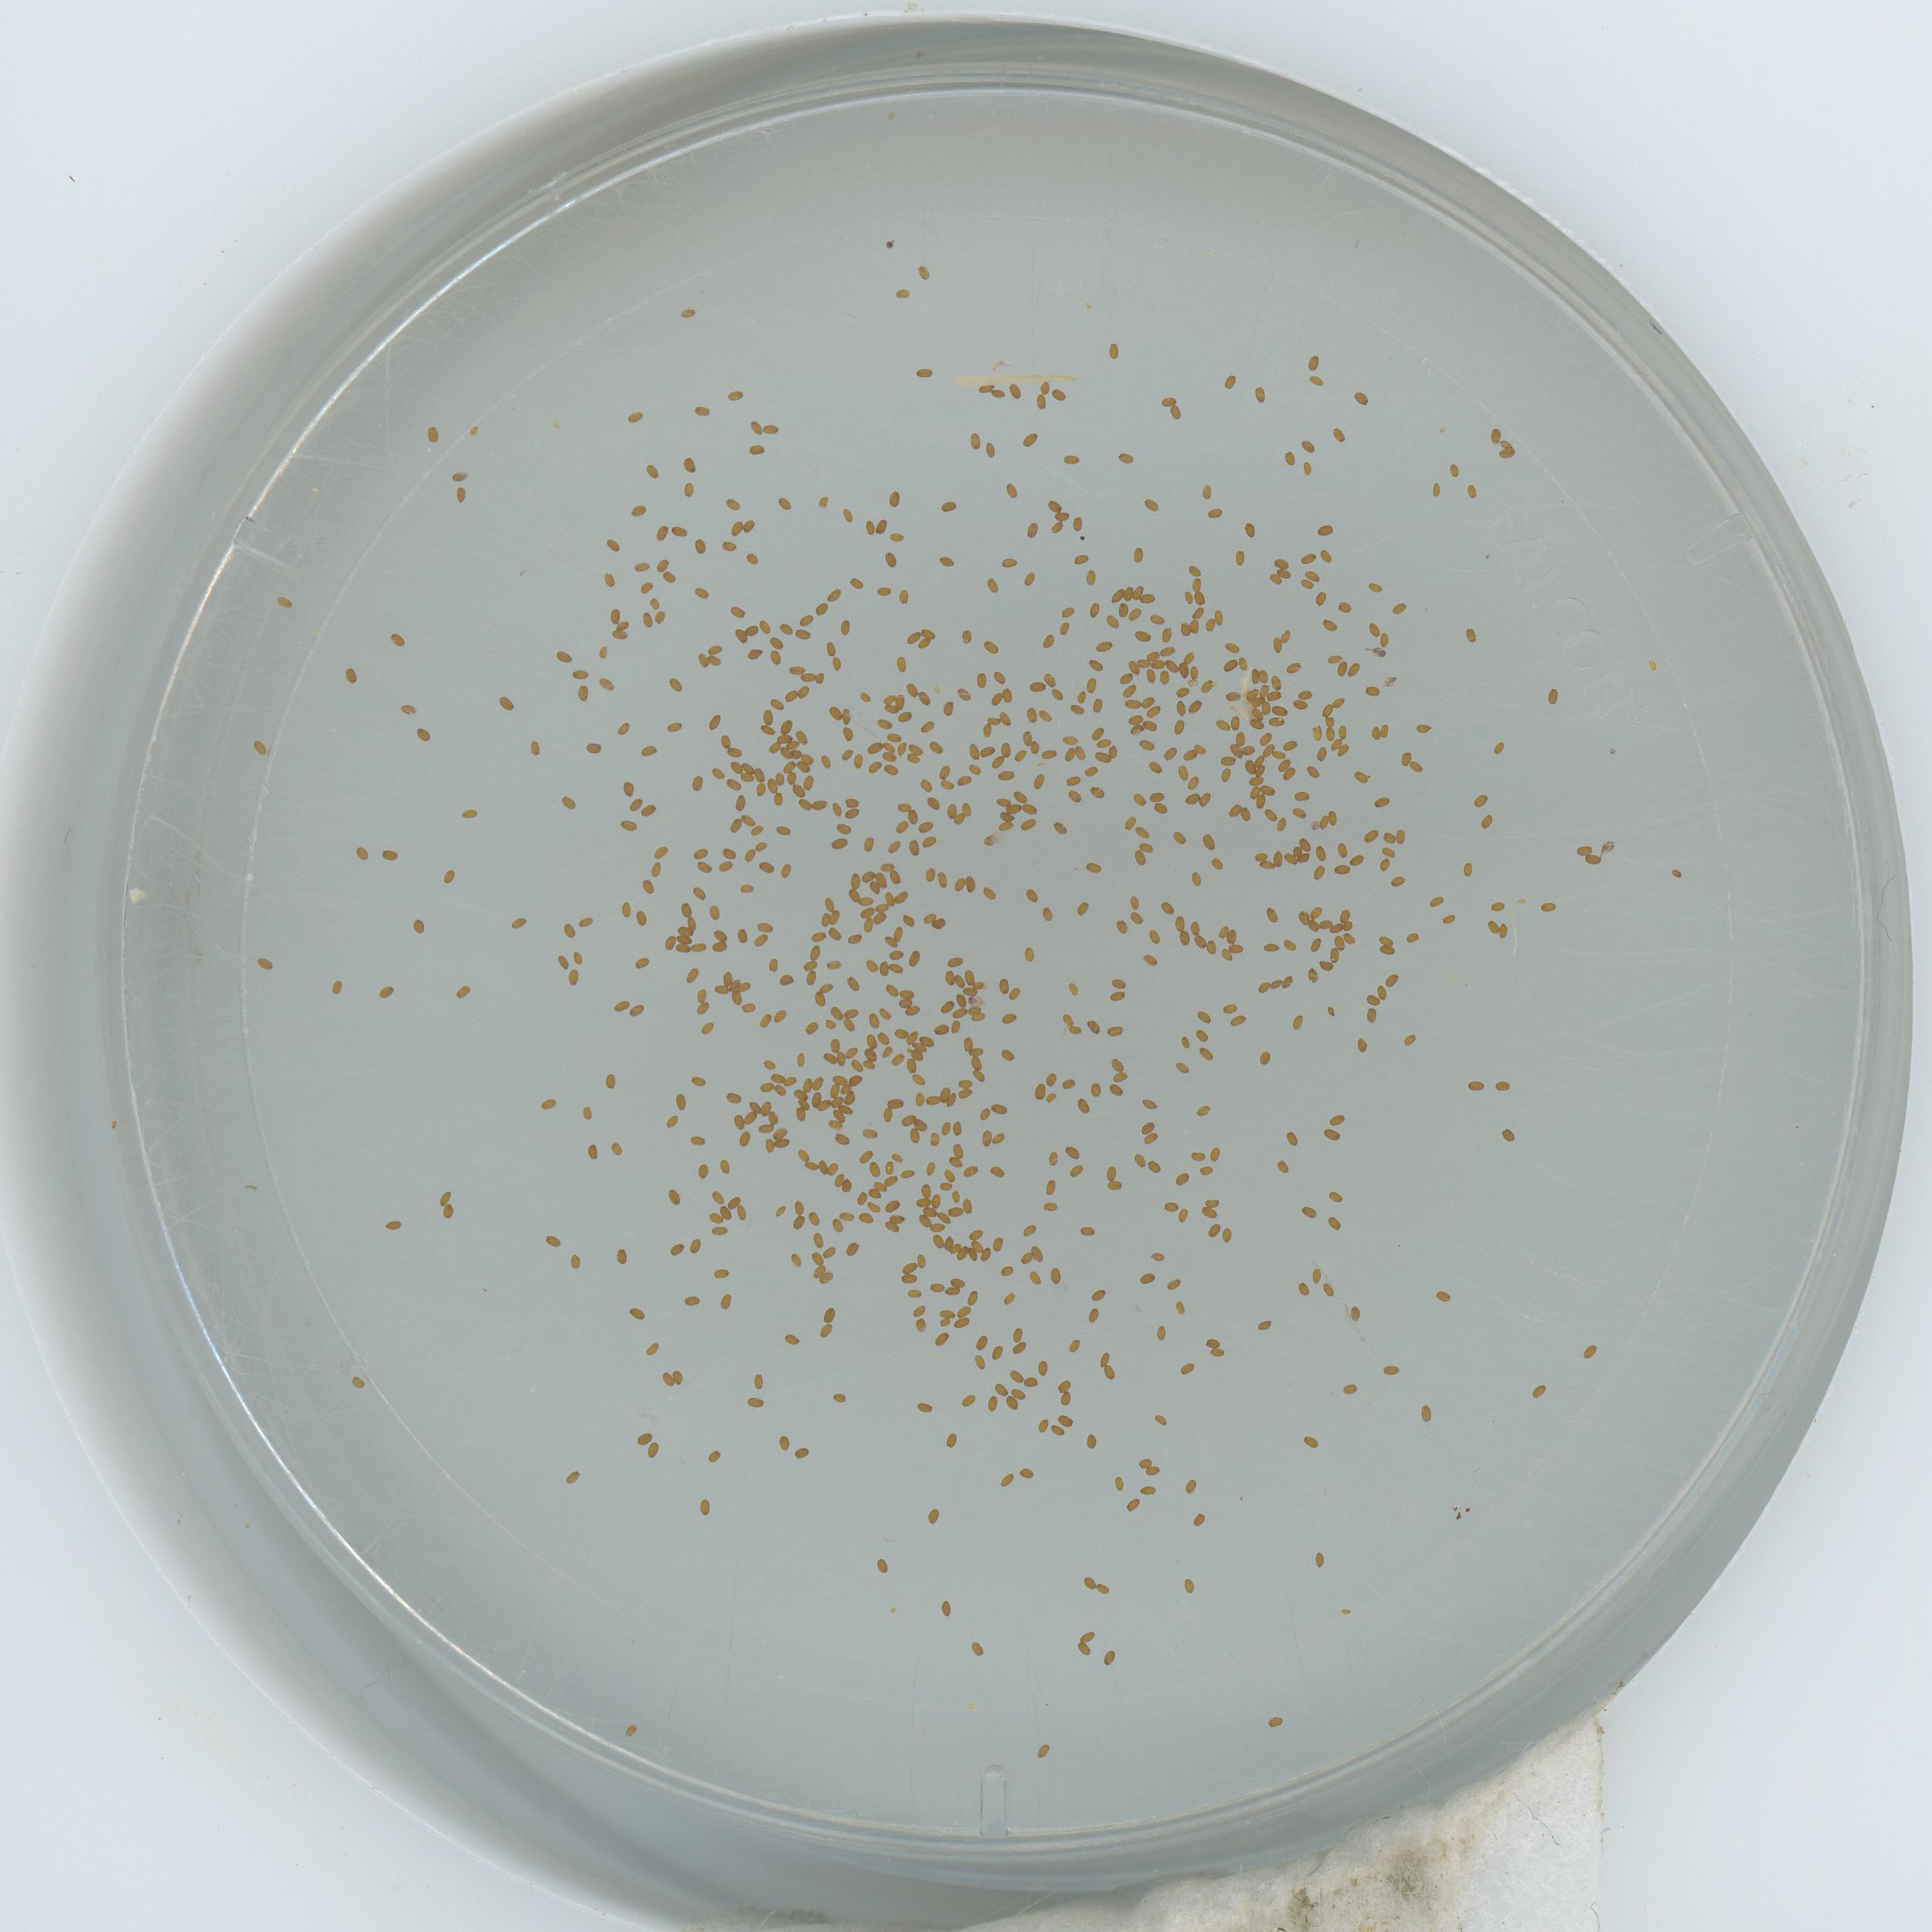seed: (954, 685, 975, 704), (934, 763, 954, 782), (672, 1090, 692, 1109), (695, 1497, 715, 1516), (253, 955, 274, 973), (745, 1394, 766, 1412), (706, 904, 725, 922), (731, 794, 750, 812), (1028, 773, 1047, 791), (1001, 479, 1021, 497), (1198, 833, 1217, 851), (1279, 934, 1299, 952), (1315, 520, 1334, 538), (1168, 718, 1187, 736), (1132, 626, 1152, 644), (1062, 1141, 1079, 1161), (1104, 1017, 1122, 1037), (862, 955, 879, 975), (276, 594, 295, 612), (653, 522, 671, 540), (497, 694, 515, 711), (725, 817, 743, 835), (692, 844, 709, 862), (671, 522, 688, 540), (759, 860, 777, 878), (667, 676, 685, 694), (883, 552, 901, 570), (878, 713, 895, 731), (934, 872, 952, 890), (711, 938, 729, 955), (844, 1238, 862, 1256), (628, 1302, 646, 1320), (718, 1292, 736, 1309), (602, 1070, 619, 1088), (1023, 520, 1040, 538), (1230, 548, 1247, 566), (1263, 908, 1281, 925), (1161, 745, 1178, 763), (1281, 736, 1299, 754), (1093, 637, 1111, 655), (1021, 430, 1039, 448), (1352, 389, 1369, 407), (1072, 899, 1090, 916), (1472, 791, 1490, 809), (1155, 626, 1173, 644), (1240, 520, 1258, 538), (1141, 495, 1159, 513), (1129, 547, 1146, 564), (1063, 771, 1081, 789), (1192, 1024, 1210, 1042), (1028, 1081, 1046, 1099), (1302, 1431, 1320, 1449), (1000, 1008, 1017, 1026), (998, 1044, 1016, 1062), (1417, 1403, 1435, 1421), (1468, 1074, 1486, 1092), (1106, 1051, 1123, 1069), (1056, 1410, 1074, 1428), (1072, 1095, 1090, 1113), (1307, 1265, 1325, 1283), (830, 837, 849, 853), (694, 586, 713, 602), (683, 455, 699, 474), (955, 771, 975, 787), (729, 989, 745, 1008), (819, 1049, 839, 1065), (885, 1196, 904, 1212), (846, 975, 862, 994), (665, 1187, 685, 1203), (793, 1444, 812, 1460), (777, 1433, 796, 1449), (745, 1097, 764, 1113), (1143, 929, 1162, 945), (971, 672, 991, 688), (1196, 679, 1215, 695), (1044, 1267, 1063, 1283), (1008, 1339, 1028, 1355), (957, 1392, 977, 1408), (690, 885, 708, 901), (725, 777, 743, 793), (653, 844, 671, 860), (918, 718, 936, 734), (655, 556, 672, 571), (694, 402, 711, 418), (660, 934, 678, 950), (757, 918, 775, 934), (895, 798, 913, 814), (747, 419, 764, 435), (678, 901, 694, 918), (639, 612, 656, 628), (692, 538, 709, 554), (570, 667, 587, 683), (633, 557, 651, 573), (380, 847, 398, 863), (561, 922, 579, 938), (810, 927, 828, 943), (770, 695, 787, 711), (510, 913, 527, 929), (570, 948, 587, 964), (586, 740, 603, 755), (706, 715, 724, 731), (812, 796, 830, 812), (414, 725, 432, 741), (908, 948, 925, 964), (621, 817, 637, 835), (918, 777, 936, 793), (409, 918, 426, 934), (720, 538, 738, 554), (575, 685, 591, 702), (895, 587, 911, 605), (598, 676, 616, 692), (826, 586, 844, 602), (640, 879, 658, 895), (844, 793, 862, 809), (619, 780, 637, 796), (633, 909, 651, 925), (639, 579, 656, 594), (644, 464, 662, 479), (920, 833, 938, 849), (727, 386, 745, 402), (713, 925, 731, 941), (925, 796, 943, 812), (888, 490, 904, 508), (453, 467, 471, 483), (916, 363, 934, 379), (688, 775, 706, 791), (840, 708, 856, 725), (821, 897, 839, 913), (828, 925, 846, 941), (616, 720, 633, 736), (777, 495, 794, 511), (441, 869, 458, 885), (867, 740, 885, 755), (778, 718, 796, 734), (683, 915, 699, 932), (902, 1258, 920, 1274), (688, 1237, 706, 1253), (858, 1146, 876, 1162), (784, 1329, 801, 1345), (713, 1263, 731, 1279), (833, 1131, 851, 1146), (791, 1198, 809, 1214), (941, 1431, 959, 1447), (924, 1507, 941, 1523), (867, 1161, 885, 1177), (886, 1093, 904, 1109), (925, 1131, 943, 1146), (938, 1599, 954, 1617), (812, 1230, 828, 1247), (874, 1557, 892, 1573), (793, 1109, 810, 1125), (858, 1208, 876, 1224), (644, 1442, 662, 1458), (543, 1231, 561, 1247), (435, 1187, 453, 1203), (690, 1070, 708, 1086), (886, 980, 904, 996), (694, 987, 711, 1003), (725, 1088, 743, 1104), (791, 1214, 809, 1230), (685, 1292, 702, 1307), (717, 1157, 734, 1173), (439, 1203, 456, 1219), (695, 1162, 713, 1178), (948, 1139, 964, 1157), (817, 1322, 835, 1338), (612, 1247, 630, 1263), (821, 1306, 839, 1322), (584, 1141, 602, 1157), (752, 1373, 770, 1389), (789, 1253, 807, 1269), (901, 1109, 918, 1125), (929, 1233, 947, 1249), (1256, 731, 1274, 747), (1362, 683, 1380, 699), (1146, 610, 1164, 626), (1297, 685, 1315, 701), (1247, 718, 1265, 734), (1293, 789, 1311, 805), (1320, 616, 1338, 632), (1047, 688, 1065, 704), (1065, 789, 1083, 805), (1000, 688, 1017, 704), (1334, 842, 1352, 858), (1010, 787, 1028, 803), (1391, 600, 1408, 616), (1173, 683, 1191, 699), (1088, 786, 1106, 801), (1019, 817, 1037, 833), (982, 639, 998, 656), (1085, 862, 1102, 878), (1311, 591, 1329, 607), (1157, 899, 1175, 915), (1445, 462, 1463, 478), (1316, 547, 1334, 563), (1086, 656, 1104, 672), (1081, 763, 1099, 778), (1131, 851, 1146, 869), (1000, 554, 1017, 570), (1062, 451, 1079, 467), (1389, 872, 1407, 888), (1490, 899, 1507, 915), (1261, 938, 1279, 954), (1279, 449, 1297, 465), (1146, 787, 1164, 803), (1304, 354, 1322, 370), (1040, 671, 1058, 686), (966, 432, 982, 449), (1085, 602, 1102, 617), (1081, 570, 1099, 586), (1116, 448, 1134, 464), (1040, 747, 1058, 763), (1290, 807, 1307, 823), (1111, 918, 1129, 934), (1539, 897, 1557, 913), (1088, 697, 1106, 713), (1169, 701, 1187, 717), (1284, 660, 1302, 676), (1102, 616, 1120, 632), (1053, 621, 1070, 637), (996, 741, 1012, 759), (1223, 688, 1240, 704), (1159, 391, 1177, 407), (1249, 386, 1267, 402), (1196, 483, 1214, 499), (1104, 341, 1122, 357), (1106, 587, 1122, 605), (1545, 688, 1562, 704), (1021, 708, 1039, 724), (1330, 426, 1348, 442), (1477, 814, 1495, 830), (1058, 603, 1074, 621), (1173, 764, 1191, 780), (1051, 821, 1069, 837), (1168, 915, 1185, 931), (1219, 373, 1237, 389), (1060, 731, 1077, 747), (1219, 658, 1237, 674), (1299, 548, 1316, 564), (1192, 587, 1208, 605), (1173, 929, 1191, 945), (1007, 380, 1023, 398), (1270, 702, 1288, 718), (973, 1334, 991, 1350), (1493, 1076, 1511, 1092), (1040, 1177, 1058, 1192), (1161, 1196, 1178, 1212), (1530, 1382, 1548, 1398), (1196, 1044, 1214, 1060), (1085, 1081, 1102, 1097), (1134, 1453, 1152, 1468), (1288, 1012, 1306, 1028), (1175, 1033, 1192, 1049), (1109, 1476, 1127, 1491), (1173, 1169, 1191, 1185), (1024, 1269, 1042, 1284), (1088, 1284, 1106, 1300), (987, 1345, 1005, 1361), (1033, 1359, 1049, 1376), (1401, 1030, 1419, 1046), (1173, 1058, 1191, 1074), (1139, 1093, 1157, 1109), (1016, 1465, 1033, 1481), (1033, 1743, 1051, 1759), (1086, 1019, 1104, 1035), (1362, 991, 1380, 1007), (1148, 1247, 1166, 1263), (991, 1097, 1007, 1115), (1123, 1495, 1141, 1511), (985, 1394, 1001, 1412), (1320, 1281, 1336, 1299), (1201, 1191, 1219, 1207), (1254, 1316, 1272, 1332), (1382, 1361, 1399, 1376), (1283, 1129, 1300, 1145), (1028, 1244, 1046, 1260), (1322, 1125, 1339, 1141), (1056, 1391, 1074, 1407), (1083, 1433, 1100, 1449), (1329, 1109, 1346, 1125), (1178, 1578, 1196, 1594), (1164, 1276, 1182, 1292), (1001, 1396, 1019, 1412), (469, 421, 487, 437), (632, 957, 651, 971), (883, 1159, 902, 1173), (1120, 685, 1139, 699), (1583, 853, 1603, 867), (957, 1088, 978, 1100), (1497, 448, 1518, 460), (617, 902, 633, 918), (731, 603, 747, 619), (556, 648, 571, 663), (890, 529, 906, 545), (862, 837, 878, 853), (878, 582, 893, 598), (876, 518, 892, 534), (904, 628, 920, 644), (649, 862, 665, 878), (824, 640, 840, 656), (893, 658, 909, 674), (862, 869, 878, 885), (640, 745, 656, 761), (796, 729, 812, 745), (941, 497, 957, 513), (853, 754, 869, 770), (895, 821, 911, 837), (354, 846, 370, 862), (770, 651, 786, 667), (918, 819, 934, 835), (605, 607, 621, 623), (602, 571, 617, 587), (400, 702, 416, 718), (915, 264, 931, 280), (796, 628, 812, 644), (895, 283, 911, 299), (745, 623, 761, 639), (708, 640, 724, 656), (732, 630, 748, 646), (729, 520, 745, 536), (628, 407, 644, 423), (842, 725, 858, 741), (939, 701, 955, 717), (814, 600, 830, 616), (920, 869, 936, 885), (778, 621, 794, 637), (895, 890, 911, 906), (890, 869, 906, 885), (931, 915, 947, 931), (771, 793, 787, 809), (847, 931, 863, 947), (939, 554, 955, 570), (425, 426, 441, 442), (839, 619, 855, 635), (743, 518, 759, 534), (761, 709, 777, 725), (343, 667, 359, 683), (628, 796, 644, 812), (869, 761, 885, 777), (745, 550, 761, 566), (605, 538, 621, 554), (642, 803, 658, 819), (725, 494, 741, 510), (646, 594, 662, 610), (736, 927, 752, 943), (775, 823, 791, 839), (681, 481, 697, 497), (462, 807, 478, 823), (803, 775, 819, 791), (837, 821, 853, 837), (389, 632, 405, 648), (722, 846, 738, 862), (755, 839, 771, 855), (807, 943, 823, 959), (694, 653, 709, 669), (453, 487, 469, 502), (766, 777, 782, 793), (826, 704, 842, 720), (847, 872, 863, 888), (251, 740, 267, 755), (817, 494, 833, 510), (883, 892, 899, 908), (920, 909, 936, 925), (867, 879, 883, 895), (594, 646, 610, 662), (878, 1028, 893, 1044), (637, 1428, 653, 1444), (805, 1017, 821, 1033), (690, 1131, 706, 1146), (455, 982, 471, 998), (934, 1330, 950, 1346), (706, 1447, 722, 1463), (564, 1468, 580, 1484), (566, 1253, 582, 1269), (908, 1127, 924, 1143), (566, 970, 582, 985), (379, 984, 395, 1000), (699, 1019, 715, 1035), (646, 1339, 662, 1355), (685, 968, 701, 984), (669, 1238, 685, 1254), (630, 1001, 646, 1017), (386, 1215, 402, 1231), (763, 1053, 778, 1069), (740, 1129, 755, 1145), (828, 1035, 844, 1051), (609, 1139, 625, 1155), (915, 1251, 931, 1267), (879, 1106, 895, 1122), (579, 1104, 594, 1120), (807, 1208, 823, 1224), (950, 1120, 966, 1136), (540, 1093, 556, 1109), (832, 1389, 847, 1405), (796, 1145, 812, 1161), (773, 1203, 789, 1219), (658, 1369, 674, 1385), (731, 1111, 747, 1127), (350, 1373, 366, 1389), (828, 1003, 844, 1019), (920, 1031, 936, 1047), (759, 1118, 775, 1134), (947, 1155, 962, 1171), (1223, 640, 1238, 656), (1072, 550, 1088, 566), (1207, 504, 1223, 520), (984, 579, 1000, 594), (1463, 626, 1479, 642), (1120, 816, 1136, 832), (1134, 824, 1150, 840), (1028, 679, 1044, 695), (1187, 699, 1203, 715), (1352, 770, 1368, 786), (1049, 386, 1065, 402), (1396, 750, 1412, 766), (1428, 893, 1444, 909), (1405, 929, 1421, 945), (1428, 481, 1444, 497), (1313, 747, 1329, 763), (1171, 830, 1187, 846), (1125, 895, 1141, 911), (1304, 764, 1320, 780), (1037, 904, 1053, 920), (1336, 724, 1352, 740), (1463, 483, 1479, 499), (1023, 890, 1039, 906), (1300, 437, 1316, 453), (1037, 708, 1053, 724), (1491, 741, 1507, 757), (1269, 639, 1284, 655), (1325, 648, 1341, 663), (1307, 904, 1323, 920), (1131, 793, 1146, 809), (1366, 621, 1382, 637), (1488, 426, 1504, 442), (1159, 642, 1175, 658), (1187, 872, 1203, 888), (980, 885, 996, 901), (1185, 775, 1201, 791), (1362, 828, 1378, 844), (1069, 515, 1085, 531), (1332, 662, 1348, 678), (1017, 731, 1033, 747), (1313, 846, 1329, 862), (1460, 862, 1476, 878), (1299, 460, 1315, 476), (1031, 393, 1047, 409), (982, 441, 998, 456), (1224, 803, 1240, 819), (1200, 617, 1215, 633), (980, 833, 996, 849), (1113, 602, 1129, 617), (1306, 936, 1322, 952), (1069, 702, 1085, 718), (1021, 945, 1037, 961), (1155, 671, 1171, 686), (1599, 839, 1615, 855), (1189, 617, 1205, 633), (1221, 998, 1237, 1014), (1079, 1626, 1095, 1642), (1362, 1007, 1378, 1023), (1042, 1070, 1058, 1086), (1196, 1008, 1212, 1024), (1191, 1511, 1207, 1527), (970, 1640, 985, 1656), (1325, 1214, 1341, 1230), (1207, 1145, 1223, 1161), (1254, 1047, 1270, 1063), (1582, 1343, 1598, 1359), (1100, 1649, 1116, 1665), (1031, 1417, 1047, 1433), (1040, 1198, 1056, 1214), (1267, 1713, 1283, 1729), (1194, 1100, 1210, 1116), (1001, 1290, 1017, 1306), (1100, 1364, 1116, 1380), (1131, 1152, 1146, 1168), (1309, 1552, 1325, 1568), (1300, 1201, 1316, 1217), (993, 1380, 1008, 1396), (998, 1472, 1014, 1488), (1146, 1157, 1162, 1173), (989, 1162, 1005, 1178), (1274, 1157, 1290, 1173), (1044, 1150, 1060, 1166), (1008, 1368, 1024, 1384), (1077, 1221, 1093, 1237), (1353, 1035, 1369, 1051), (1021, 1221, 1037, 1237), (1341, 1378, 1357, 1394), (1085, 1307, 1100, 1323), (1067, 1162, 1083, 1178), (998, 1261, 1014, 1277), (1109, 975, 1125, 991), (1047, 1422, 1063, 1438), (1384, 971, 1399, 987), (1205, 1223, 1221, 1238), (968, 1224, 984, 1240), (1175, 1207, 1191, 1223), (1023, 1371, 1039, 1387), (1108, 989, 1123, 1005), (991, 1129, 1007, 1145), (1435, 1288, 1451, 1304), (1500, 1125, 1516, 1141), (1219, 1226, 1235, 1242), (978, 1131, 994, 1146), (727, 977, 743, 993), (623, 1723, 639, 1739), (108, 1116, 124, 1132), (787, 660, 805, 674), (748, 442, 766, 456), (886, 840, 904, 855), (939, 780, 957, 794), (901, 913, 918, 927), (778, 865, 796, 879), (849, 575, 867, 589), (747, 648, 764, 662), (577, 913, 594, 927), (915, 692, 932, 706), (695, 863, 713, 878), (927, 741, 945, 755), (763, 421, 780, 435), (858, 690, 876, 704), (692, 938, 709, 952), (789, 784, 807, 798), (888, 947, 906, 961), (901, 1270, 918, 1284), (862, 1125, 879, 1139), (778, 971, 796, 985), (709, 1187, 727, 1201), (819, 978, 837, 993), (911, 1302, 929, 1316), (663, 1115, 681, 1129), (695, 1001, 713, 1016), (913, 1318, 931, 1332), (906, 1286, 924, 1300), (773, 1083, 791, 1097), (826, 1120, 844, 1134), (770, 1069, 787, 1083), (816, 1099, 833, 1113), (957, 1076, 975, 1090), (1138, 738, 1155, 752), (1207, 858, 1224, 872), (1332, 863, 1350, 878), (1380, 846, 1398, 860), (1330, 695, 1348, 709), (1270, 556, 1288, 570), (1141, 950, 1159, 964), (1306, 372, 1323, 386), (1309, 867, 1327, 881), (1336, 908, 1353, 922), (991, 671, 1008, 685), (1166, 405, 1184, 419), (1136, 840, 1154, 855), (1376, 932, 1394, 947), (1378, 943, 1396, 957), (1189, 605, 1207, 619), (1092, 750, 1109, 764), (1127, 607, 1145, 621), (1116, 672, 1134, 686), (1070, 690, 1088, 704), (957, 630, 975, 644), (1269, 674, 1283, 692), (1145, 704, 1162, 718), (1139, 1484, 1157, 1499), (1143, 1465, 1161, 1479), (1093, 1352, 1111, 1366), (1141, 1131, 1159, 1145), (1200, 1205, 1217, 1219), (1058, 1074, 1076, 1088), (1007, 1325, 1024, 1339), (1074, 1644, 1092, 1658), (1100, 1166, 1118, 1180), (1196, 1162, 1214, 1177), (1327, 1189, 1345, 1203), (1346, 1306, 1364, 1320), (1150, 1412, 1168, 1426), (1104, 1178, 1122, 1192), (1016, 1251, 1033, 1265), (826, 957, 844, 971), (1109, 1070, 1132, 1081), (610, 630, 630, 642), (945, 955, 964, 968), (952, 1316, 971, 1329), (961, 1035, 973, 1054), (1123, 584, 1136, 603), (770, 637, 786, 651), (888, 729, 902, 745), (800, 612, 816, 626), (727, 745, 743, 759), (709, 766, 725, 780), (718, 862, 734, 876), (904, 683, 920, 697), (527, 741, 543, 755), (830, 658, 846, 672), (740, 881, 755, 895), (920, 625, 936, 639), (784, 688, 798, 704), (662, 571, 678, 586), (899, 711, 915, 725), (561, 796, 577, 810), (632, 502, 648, 517), (817, 911, 833, 925), (717, 732, 732, 747), (743, 849, 759, 863), (800, 685, 816, 699), (885, 764, 901, 778), (952, 878, 966, 893), (840, 508, 856, 522), (883, 750, 899, 764), (655, 610, 671, 625), (667, 720, 683, 734), (750, 824, 766, 839), (741, 814, 757, 828), (908, 810, 924, 824), (759, 725, 775, 740), (817, 755, 833, 770), (830, 909, 844, 925), (893, 927, 909, 941), (945, 803, 959, 819), (759, 619, 775, 633), (846, 807, 862, 821), (860, 892, 876, 906), (839, 747, 855, 761), (754, 784, 770, 798), (874, 874, 890, 888), (883, 690, 899, 704), (681, 304, 695, 320), (883, 934, 899, 948), (741, 759, 755, 775), (883, 702, 899, 717), (879, 858, 895, 872), (612, 996, 628, 1010), (824, 1016, 839, 1031), (842, 1017, 858, 1031), (867, 1014, 881, 1030), (853, 1189, 869, 1203), (902, 1166, 918, 1180), (713, 1223, 729, 1237), (761, 1136, 775, 1152), (929, 1279, 945, 1293), (846, 1003, 862, 1017), (743, 1000, 759, 1014), (713, 982, 729, 996), (775, 1007, 791, 1021), (924, 1162, 939, 1177), (916, 1399, 932, 1414), (672, 1368, 686, 1384), (948, 1187, 962, 1203), (893, 1026, 909, 1040), (932, 1021, 948, 1035), (757, 1012, 773, 1026), (939, 998, 955, 1012), (867, 1198, 883, 1212), (736, 1203, 750, 1219), (794, 1053, 810, 1067), (911, 1070, 927, 1085), (805, 970, 821, 984), (878, 1007, 893, 1021), (718, 971, 734, 985), (823, 1244, 839, 1258), (847, 1072, 863, 1086), (832, 1217, 847, 1231), (791, 1088, 807, 1102), (759, 1077, 775, 1092), (814, 991, 830, 1005), (775, 1136, 791, 1150), (839, 1205, 855, 1219), (948, 1203, 964, 1217), (920, 1182, 936, 1196), (863, 1046, 879, 1060), (943, 1164, 959, 1178), (890, 1051, 906, 1065), (925, 1093, 941, 1108), (939, 1306, 955, 1320), (832, 1070, 847, 1085), (801, 1076, 816, 1092), (832, 1169, 846, 1185), (941, 1233, 955, 1249), (939, 970, 955, 984), (819, 1270, 833, 1286), (840, 1177, 856, 1191), (980, 745, 996, 759), (1366, 580, 1382, 594), (1021, 803, 1037, 817), (1336, 600, 1352, 614), (1088, 725, 1104, 740), (1044, 497, 1060, 511), (1350, 855, 1366, 869), (1141, 669, 1157, 683), (1293, 701, 1309, 715), (1376, 860, 1392, 874), (998, 768, 1014, 782), (1127, 713, 1143, 727), (1021, 571, 1037, 586), (1198, 791, 1212, 807), (1346, 662, 1362, 676), (1035, 379, 1049, 395), (1083, 678, 1099, 692), (1394, 830, 1408, 846), (1231, 731, 1247, 745), (1217, 770, 1233, 784), (1060, 748, 1076, 763), (1178, 589, 1192, 605), (1012, 750, 1028, 764), (1408, 761, 1424, 775), (1318, 702, 1332, 718), (989, 386, 1005, 400), (1373, 796, 1389, 810), (1212, 718, 1228, 732), (1228, 941, 1244, 955), (1440, 911, 1456, 925), (1228, 715, 1242, 731), (1074, 747, 1088, 763), (1039, 633, 1054, 648), (1299, 837, 1315, 851), (1139, 695, 1155, 709), (1224, 929, 1240, 943), (1185, 561, 1201, 575), (1279, 628, 1293, 644), (1184, 791, 1198, 807), (1192, 741, 1208, 755), (1253, 847, 1269, 862), (1341, 920, 1357, 934), (1187, 577, 1203, 591), (1327, 812, 1341, 828), (1276, 817, 1292, 832), (1150, 803, 1166, 817), (1187, 920, 1201, 936), (1146, 761, 1162, 775), (1283, 768, 1299, 782), (1668, 865, 1684, 879), (998, 713, 1014, 727), (1304, 566, 1320, 580), (1260, 784, 1276, 798), (1576, 842, 1592, 856), (1139, 591, 1155, 605), (1240, 743, 1256, 757), (1238, 809, 1253, 824), (966, 743, 980, 759), (1415, 722, 1431, 736), (1129, 911, 1145, 925), (1192, 934, 1207, 950), (968, 763, 984, 777), (1368, 725, 1382, 741), (1380, 724, 1394, 740), (1212, 609, 1226, 625), (1187, 665, 1201, 681), (1177, 621, 1191, 637), (1226, 743, 1242, 757), (1267, 571, 1283, 586), (1267, 690, 1283, 704), (1028, 740, 1042, 755), (1215, 924, 1230, 939), (1123, 697, 1139, 711), (1270, 747, 1286, 761), (1122, 660, 1138, 674), (1247, 706, 1263, 720), (959, 801, 973, 817), (1187, 1146, 1203, 1161), (1171, 1300, 1187, 1315), (1007, 987, 1023, 1001), (1106, 1083, 1122, 1097), (971, 1355, 987, 1369), (991, 1235, 1007, 1249), (1065, 1338, 1081, 1352), (994, 978, 1010, 993), (1228, 1012, 1244, 1026), (1010, 1385, 1026, 1399), (1203, 1334, 1219, 1348), (1081, 1575, 1095, 1591), (1208, 1346, 1224, 1361), (975, 1106, 991, 1120), (1178, 1361, 1194, 1375), (1139, 1270, 1155, 1284), (1139, 1116, 1155, 1131), (1182, 1479, 1198, 1493), (1093, 1582, 1109, 1596), (1054, 1376, 1070, 1391), (1065, 1023, 1081, 1037), (1152, 1325, 1168, 1339), (1295, 1281, 1311, 1295), (1304, 968, 1320, 982), (1323, 1003, 1339, 1017), (962, 1162, 977, 1178), (1254, 980, 1270, 994), (968, 1054, 984, 1069), (970, 1040, 984, 1056), (971, 1012, 987, 1026), (1256, 683, 1270, 699), (952, 812, 968, 826), (777, 732, 793, 747), (557, 952, 570, 970), (798, 672, 816, 685), (755, 766, 768, 784), (801, 752, 819, 764), (856, 906, 874, 918), (796, 763, 814, 775), (892, 1150, 909, 1162), (885, 1173, 902, 1185), (720, 1205, 732, 1223), (899, 985, 916, 998), (885, 1221, 902, 1233), (869, 1185, 886, 1198), (888, 962, 906, 975), (906, 1003, 924, 1016), (957, 1304, 975, 1316), (1217, 755, 1235, 768), (1246, 775, 1263, 787), (962, 1198, 975, 1215), (1499, 435, 1516, 448), (939, 1085, 952, 1102), (879, 961, 890, 980), (906, 842, 920, 856), (847, 888, 862, 902), (729, 761, 743, 775), (909, 741, 924, 755), (862, 520, 876, 534), (893, 695, 908, 709), (816, 671, 830, 685), (782, 759, 796, 773), (931, 1194, 945, 1208), (727, 1194, 741, 1208), (810, 1249, 824, 1263), (939, 1178, 954, 1192), (906, 1058, 920, 1072), (331, 980, 345, 994), (847, 1042, 862, 1056), (881, 1044, 895, 1058), (775, 1123, 789, 1138), (938, 1120, 952, 1134), (759, 1100, 773, 1115), (865, 1035, 879, 1049), (906, 1030, 920, 1044), (745, 1111, 759, 1125), (1237, 656, 1251, 671), (1497, 924, 1511, 938), (1182, 649, 1196, 663), (980, 722, 994, 736), (1240, 761, 1254, 775), (1293, 909, 1307, 924), (1261, 809, 1276, 823), (1203, 941, 1217, 955), (1327, 948, 1341, 962), (987, 694, 1001, 708), (1283, 853, 1297, 867), (1177, 663, 1191, 678), (1106, 745, 1120, 759), (1306, 920, 1320, 934), (1378, 632, 1392, 646), (1323, 715, 1338, 729), (1309, 725, 1323, 740), (1162, 658, 1177, 672), (980, 1247, 994, 1261), (1060, 1012, 1074, 1026), (1281, 973, 1295, 987), (966, 1290, 980, 1304), (1063, 982, 1077, 996), (971, 1069, 985, 1083), (971, 977, 985, 991), (1251, 695, 1265, 709), (832, 1108, 846, 1122), (844, 1090, 858, 1104), (708, 655, 724, 667), (904, 754, 920, 766), (754, 934, 770, 947), (786, 771, 801, 784), (766, 741, 782, 754), (948, 1274, 964, 1286), (892, 1212, 908, 1224), (911, 1093, 927, 1106), (945, 1284, 961, 1297), (812, 1090, 824, 1106), (931, 1219, 947, 1231), (947, 1093, 959, 1109), (849, 1058, 865, 1070), (810, 1265, 826, 1277), (803, 1159, 819, 1171), (934, 1316, 950, 1329), (708, 1212, 724, 1224), (954, 971, 966, 987), (826, 1159, 842, 1171), (863, 1058, 879, 1070), (870, 1178, 886, 1191), (924, 1207, 939, 1219), (989, 757, 1005, 770), (1047, 522, 1063, 534), (1005, 803, 1021, 816), (1343, 934, 1359, 947), (1217, 950, 1233, 962), (1180, 750, 1196, 763), (977, 380, 993, 393), (1258, 860, 1274, 872), (1269, 717, 1284, 729), (1247, 669, 1260, 685), (1276, 759, 1292, 771), (1299, 579, 1315, 591), (998, 823, 1014, 835), (1095, 738, 1111, 750), (1129, 725, 1145, 738), (1376, 984, 1389, 1000), (1338, 1605, 1353, 1617), (1323, 727, 1336, 743), (1260, 667, 1272, 683), (839, 1083, 855, 1095), (786, 740, 801, 752), (674, 943, 690, 955), (909, 1049, 925, 1062), (678, 925, 695, 936), (936, 1212, 954, 1223), (957, 1246, 968, 1263), (962, 987, 980, 998), (798, 800, 812, 812), (895, 741, 908, 755), (874, 913, 888, 925), (862, 920, 876, 932), (832, 803, 844, 817), (916, 639, 931, 651), (617, 617, 632, 630), (773, 771, 786, 786), (878, 902, 892, 915), (740, 978, 754, 991), (913, 1118, 927, 1131), (916, 1196, 931, 1208), (948, 1021, 962, 1033), (897, 996, 911, 1008), (768, 1111, 782, 1123), (814, 1076, 826, 1090), (816, 1161, 830, 1173), (994, 796, 1008, 809), (1143, 720, 1157, 732), (1272, 853, 1284, 867), (1382, 830, 1394, 844), (1330, 936, 1343, 950), (1318, 918, 1332, 931), (1247, 787, 1260, 801), (1338, 745, 1352, 757), (1253, 796, 1265, 810), (985, 713, 1000, 725), (1044, 1090, 1058, 1102), (1269, 977, 1281, 991), (1244, 688, 1258, 701), (948, 1242, 961, 1256), (971, 1238, 984, 1253), (918, 1214, 931, 1228), (740, 773, 755, 784), (839, 1104, 855, 1115), (835, 1053, 846, 1069), (966, 878, 977, 893), (1277, 570, 1293, 580), (1054, 510, 1070, 520), (1145, 648, 1161, 658), (966, 1246, 977, 1261), (964, 970, 975, 985), (1320, 962, 1336, 973), (1260, 702, 1270, 718), (676, 936, 694, 945), (794, 1100, 812, 1109), (952, 1007, 964, 1019), (1152, 656, 1164, 669), (1330, 738, 1343, 750), (1292, 844, 1304, 856), (780, 747, 793, 759), (766, 955, 780, 966), (1297, 855, 1311, 865), (998, 812, 1012, 823), (1329, 924, 1343, 934), (1254, 764, 1269, 775), (1132, 586, 1143, 600), (830, 1083, 840, 1097), (957, 993, 966, 1008), (1320, 816, 1329, 832), (911, 1042, 927, 1051), (786, 1072, 796, 1085), (1136, 658, 1148, 669), (1254, 755, 1267, 766), (1263, 743, 1274, 755), (791, 748, 803, 759), (968, 1007, 982, 1016), (832, 1097, 844, 1106)
